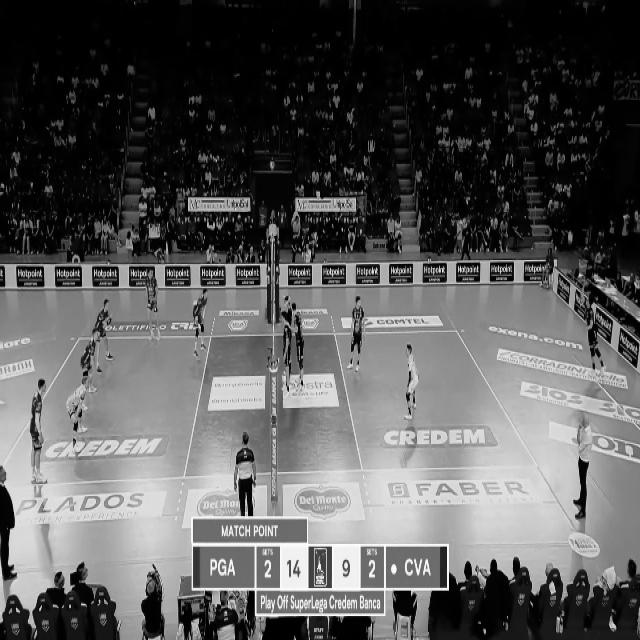volleyball court: (6, 328, 539, 481)
